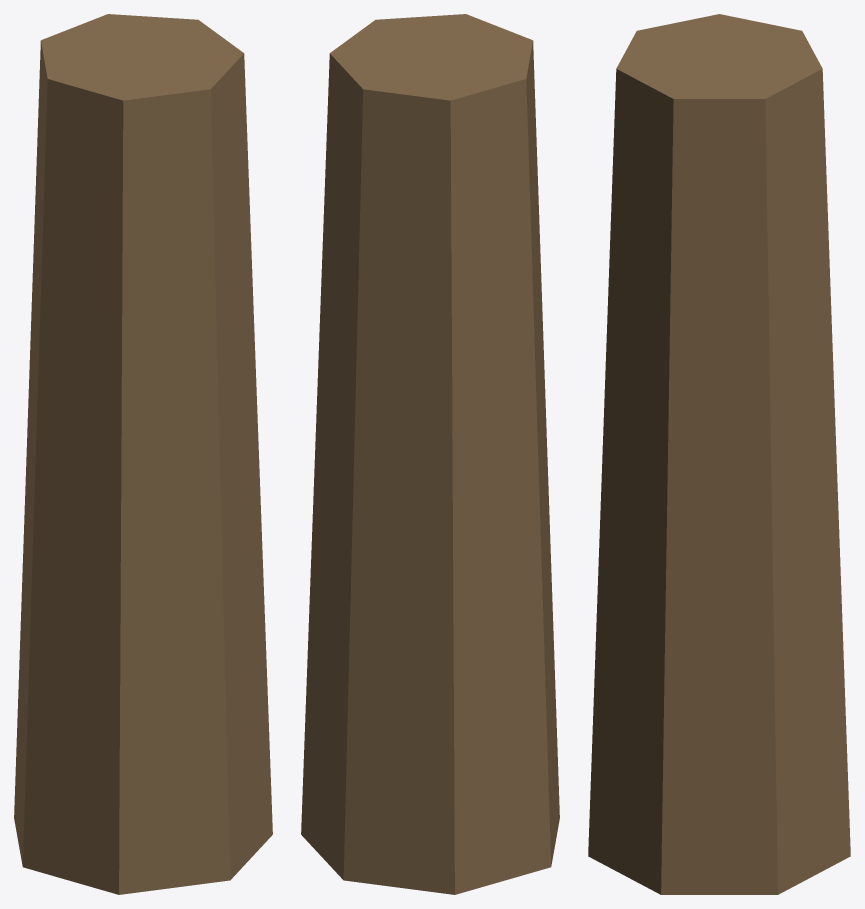
The model's file is drk_log.fbx.
The picture shows the model from 3 angles, left to right: view 1: azimuth 30°, elevation 25°; view 2: azimuth 150°, elevation 25°; view 3: azimuth 270°, elevation 25°; orthographic projection.
Parts seen in each view (by area): view 1: GEO-log; view 2: GEO-log; view 3: GEO-log.
Boxes of the visible parts, x1,y1,x2,y2 form: GEO-log: (14, 14, 272, 894); GEO-log: (301, 14, 559, 894); GEO-log: (588, 14, 850, 894).
Size of the model in its own units: 53.23 by 180 by 54.6.
